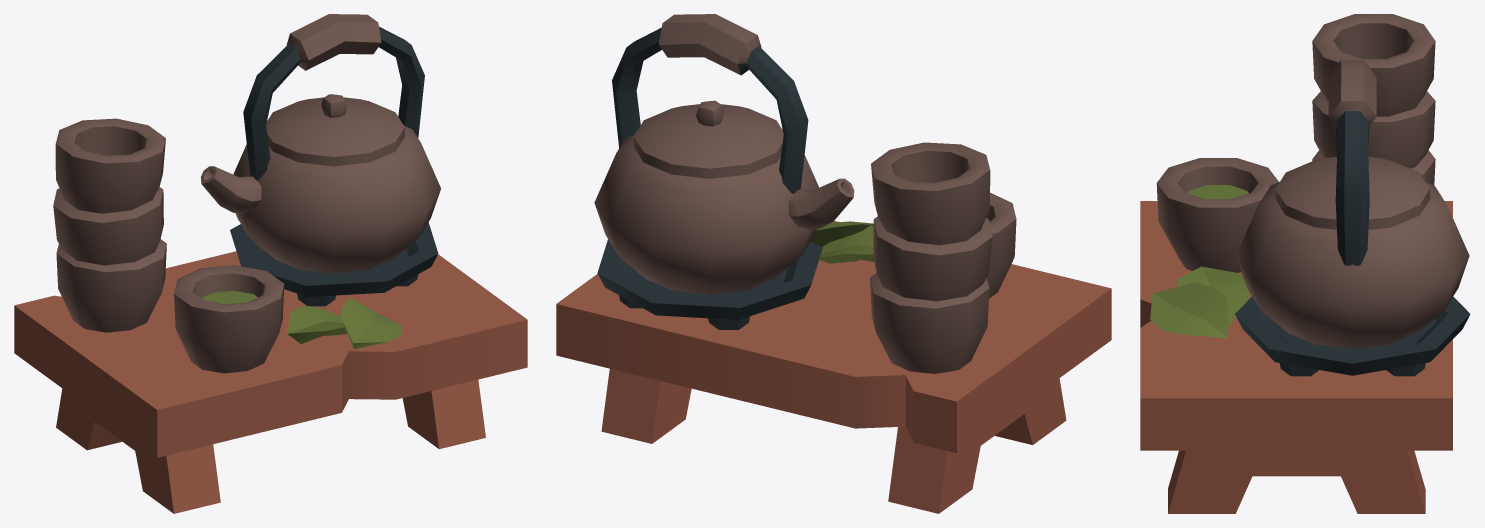
File: table_decorated.gltf.glb
3 renders of one model, left to right at view 1: azimuth 30°, elevation 25°; view 2: azimuth 150°, elevation 25°; view 3: azimuth 270°, elevation 25°, orthographic. The views are drawn at different scales.
Visible parts, largest first — view 1: table_decorated; view 2: table_decorated; view 3: table_decorated.
Boxes of the visible parts, <box> form: table_decorated: <box>14,14,527,513</box>; table_decorated: <box>556,14,1111,513</box>; table_decorated: <box>1140,14,1470,513</box>.
Size of the model in its own units: 1.12 by 1.08 by 0.7928.
